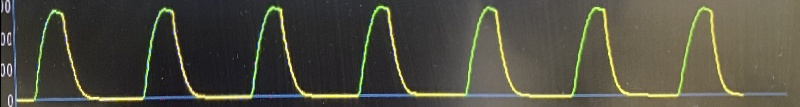normal_volume: (18, 0, 754, 107)
